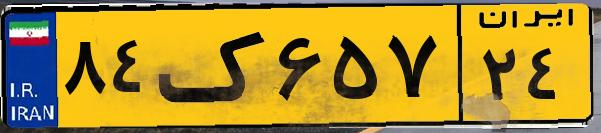2: (475, 38, 525, 113)
4: (525, 38, 570, 115), (110, 28, 158, 98)
5: (330, 28, 385, 110)
6: (270, 28, 330, 110)
7: (385, 28, 445, 110)
8: (57, 26, 110, 100)
ک: (158, 12, 270, 120)
